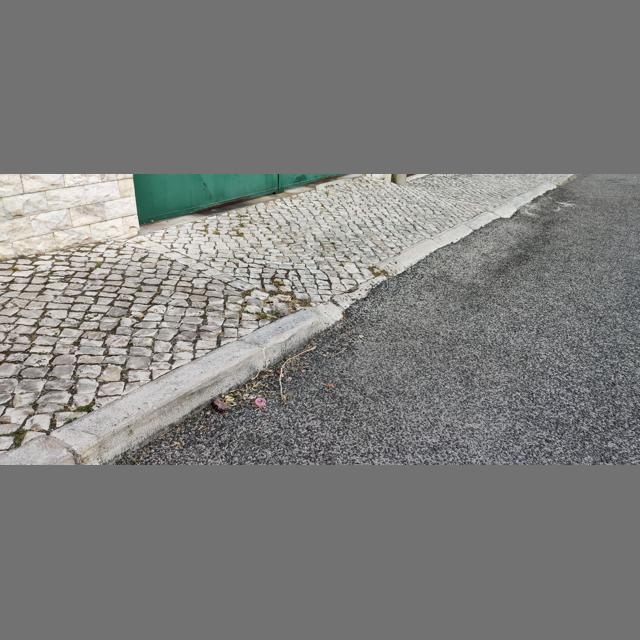litter: (255, 398, 266, 408)
